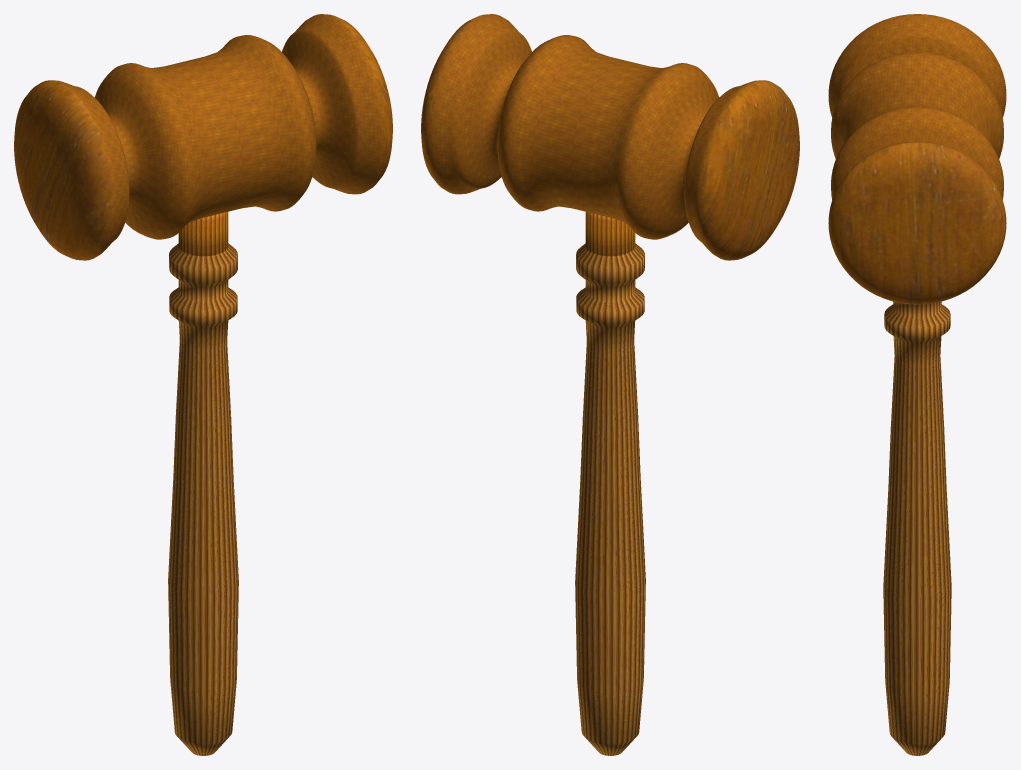
The model's file is gavel.fbx.
3 renders of one model, left to right at view 1: azimuth 30°, elevation 25°; view 2: azimuth 150°, elevation 25°; view 3: azimuth 270°, elevation 25°, orthographic. The views are drawn at different scales.
Parts seen in each view (by area): view 1: Cylinder; view 2: Cylinder; view 3: Cylinder.
Part boxes in pixels (x1,y1,x2,y2): Cylinder: (14, 14, 392, 755); Cylinder: (421, 14, 799, 755); Cylinder: (828, 14, 1006, 755).
Bounding box in the file's own units: 35.94 × 76.78 × 18.43.
Materials: 1 (1 with a texture image).
